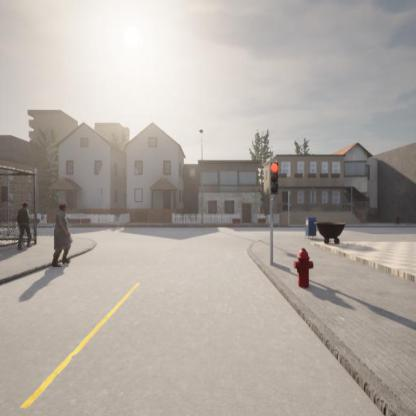person: (52, 203, 73, 267), (16, 202, 32, 250)
traffic_light_red: (269, 162, 278, 193)
